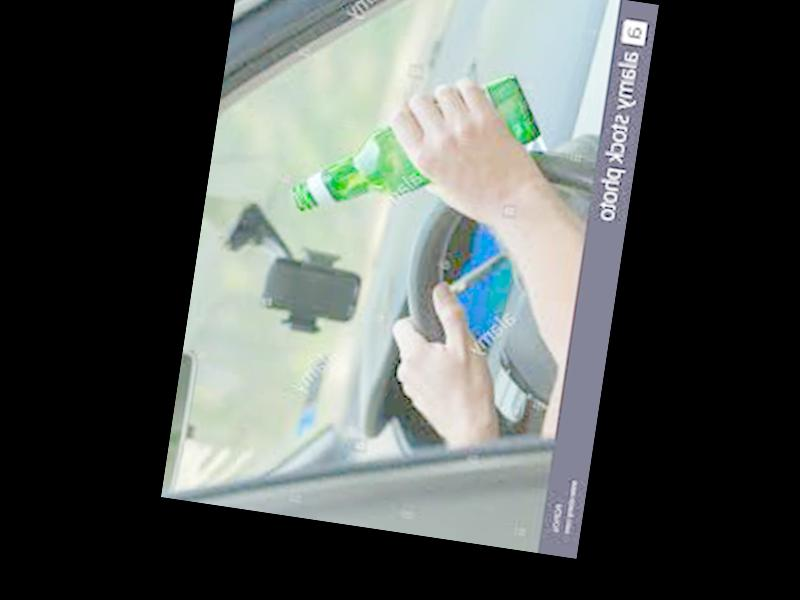Beer: (292, 51, 550, 242)
